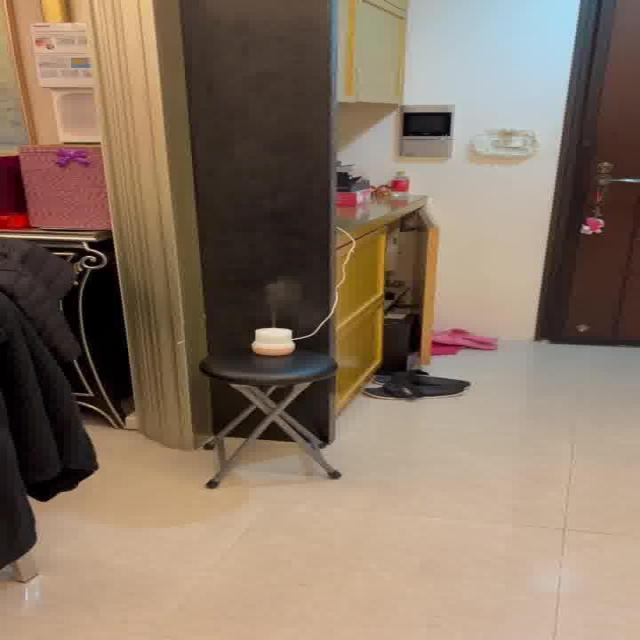fire: (252, 278, 312, 320)
